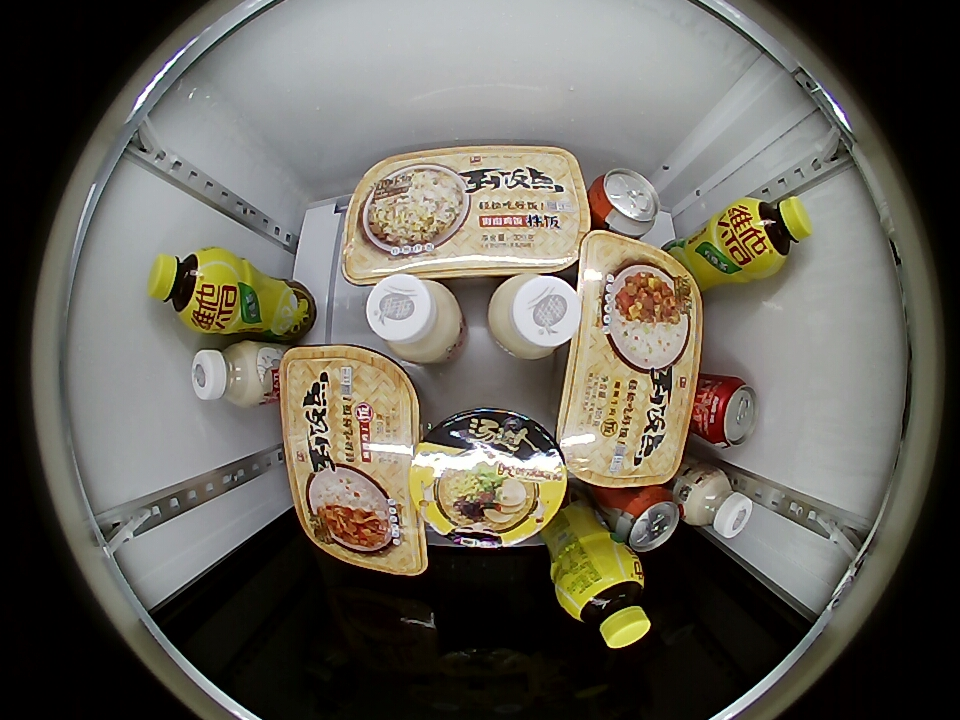daofandian1: (340, 144, 591, 279)
daofandian2: (559, 231, 701, 490)
daofandian4: (279, 343, 427, 576)
jianlibao: (588, 167, 662, 239), (607, 486, 681, 553)
kele: (699, 375, 758, 449)
tangdaren2: (411, 406, 569, 548)
weitaningmeng-bottle: (558, 553, 650, 650), (148, 248, 229, 330), (731, 196, 813, 274)
weiweidounai: (363, 276, 463, 362), (489, 272, 581, 360), (191, 340, 272, 408), (681, 465, 754, 538)
